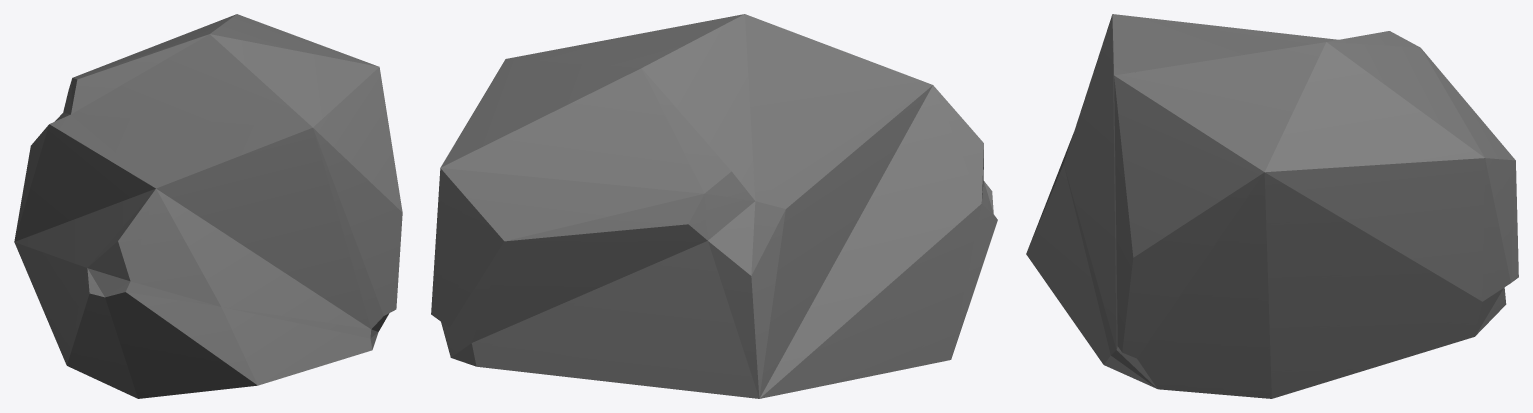
Rendered from stone small 16.fbx.
3 renders of one model, left to right at view 1: azimuth 30°, elevation 25°; view 2: azimuth 150°, elevation 25°; view 3: azimuth 270°, elevation 25°, orthographic. The views are drawn at different scales.
Parts seen in each view (by area): view 1: stone small 16; view 2: stone small 16; view 3: stone small 16.
Part boxes in pixels (bbox=[...]): stone small 16: bbox=[14, 14, 402, 398]; stone small 16: bbox=[431, 14, 997, 398]; stone small 16: bbox=[1026, 14, 1518, 398].
Bounding box in the file's own units: 36.48 × 27.36 × 39.6.
